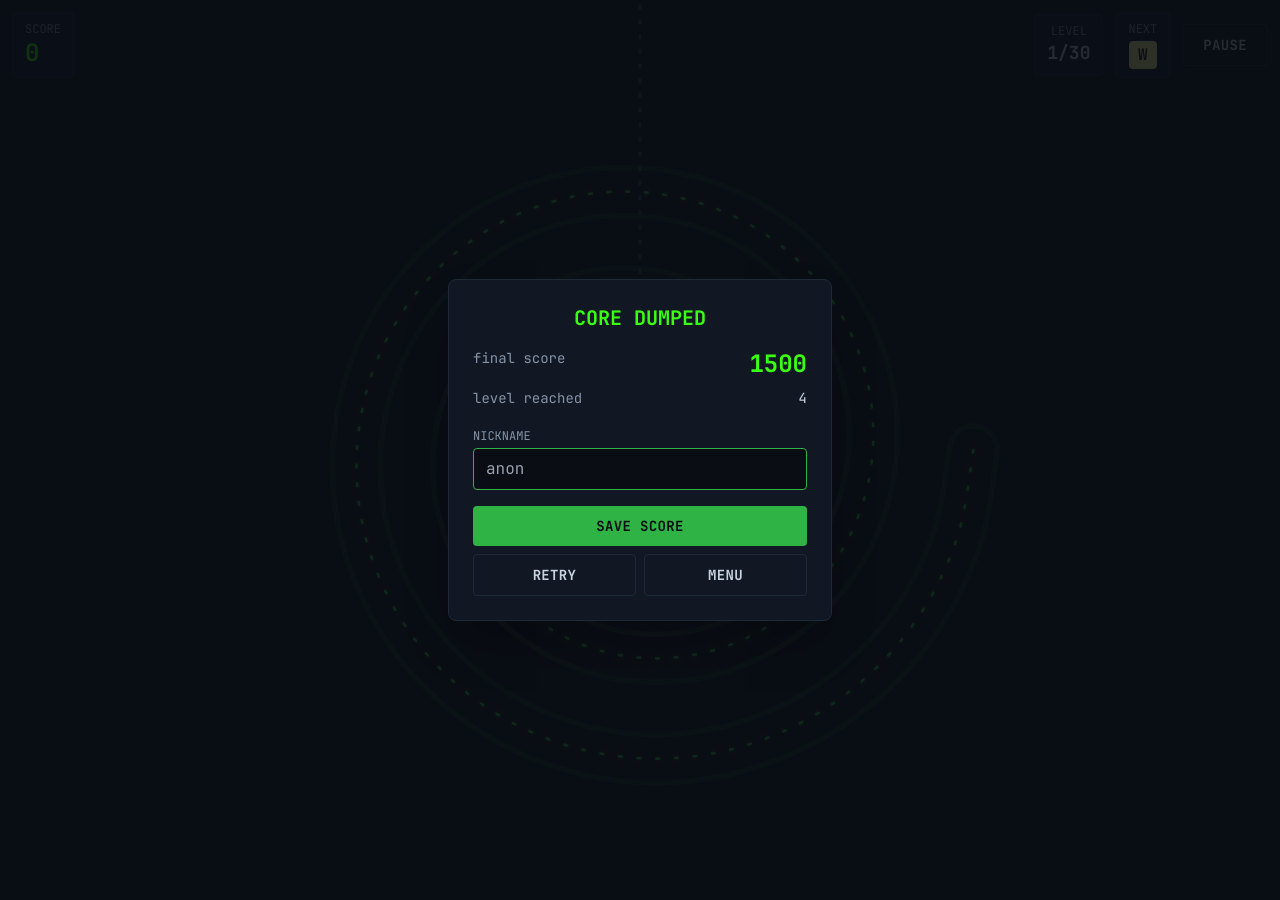
Test case: GameScreen › saving the score › saves the run under the nickname the player typed and keeps it for next time
Type "trinity" into the field labelled "nickname". click: (640, 469)
box: [473,448,807,490]
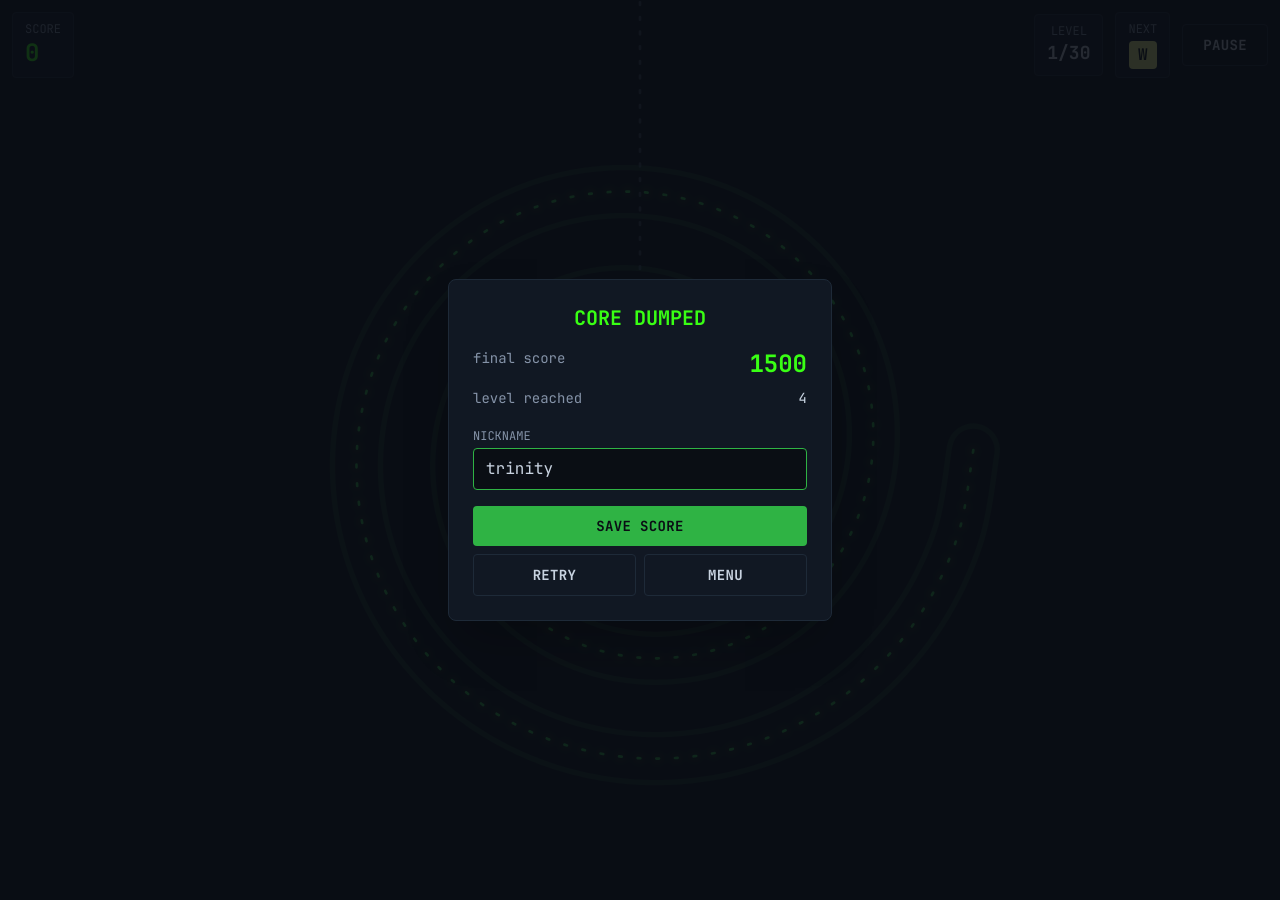
Click the button "Save score". click: (640, 526)
box: [473,506,807,546]
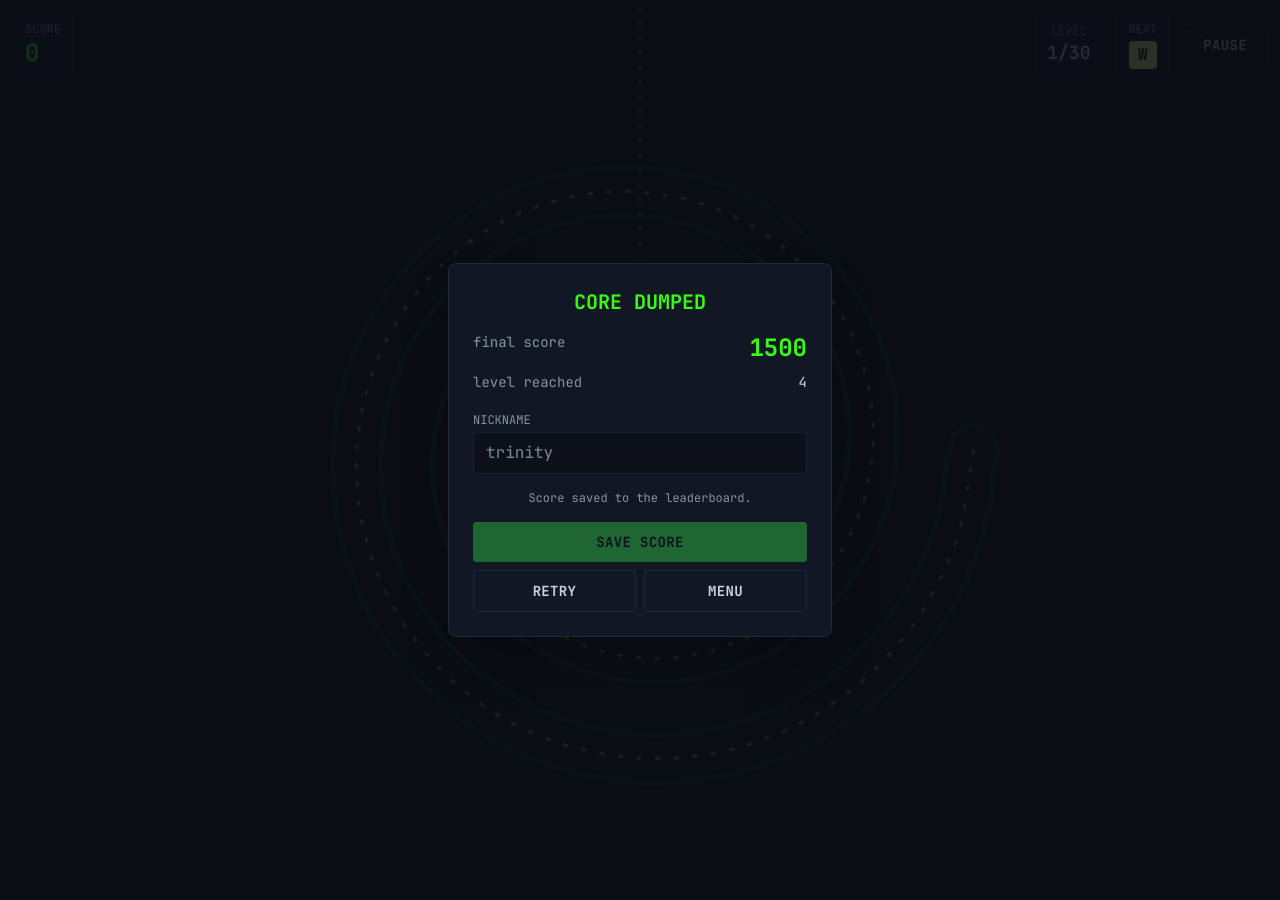
Now the text "Score saved to the leaderboard." is shown, box [528,490,752,506]
